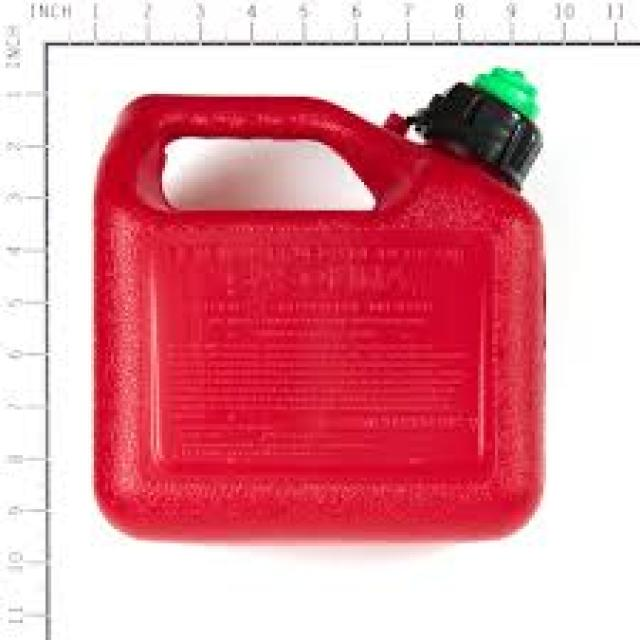gasolin: (91, 82, 549, 546)
